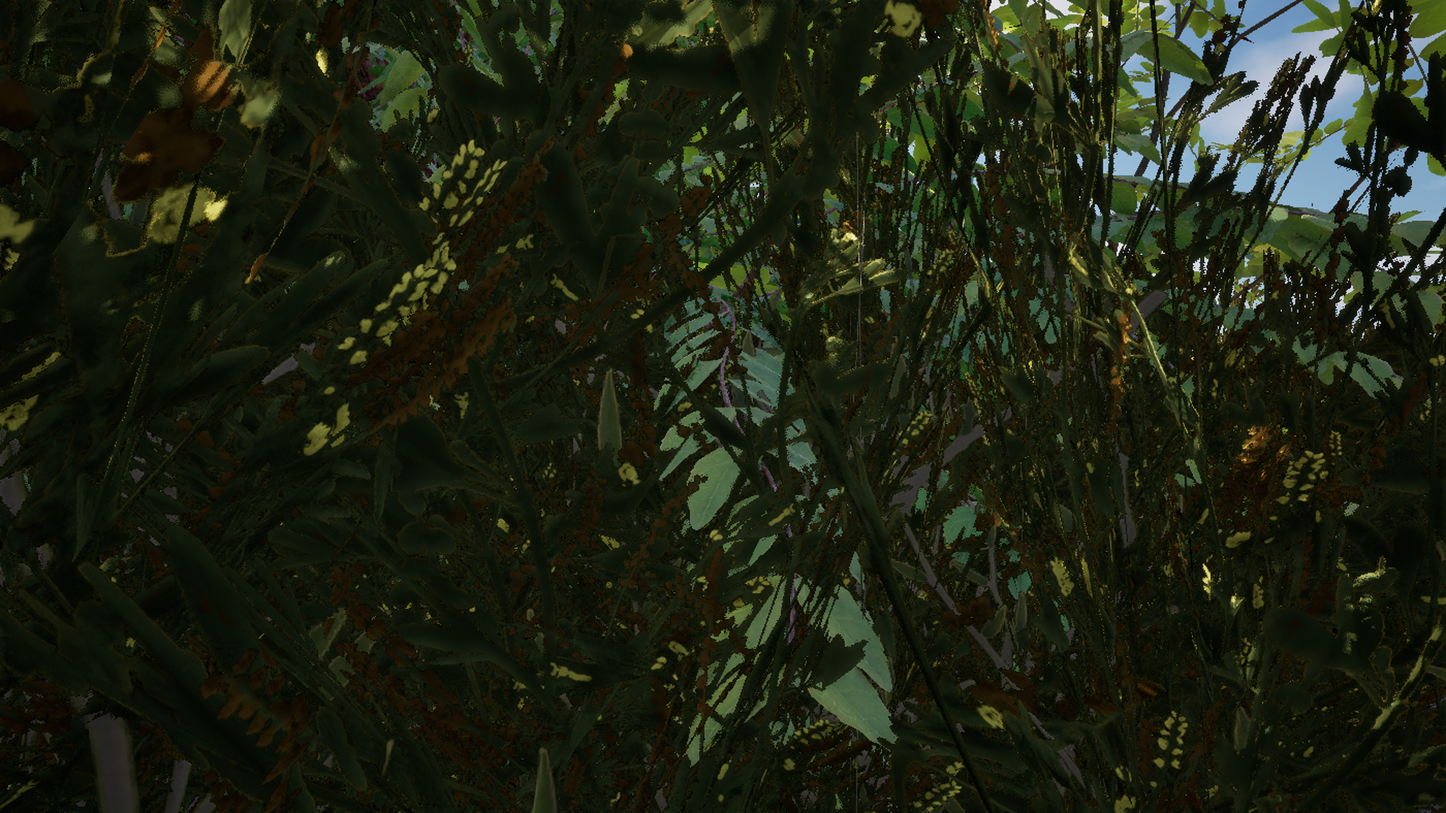Piplup: (468, 0, 1163, 813)
